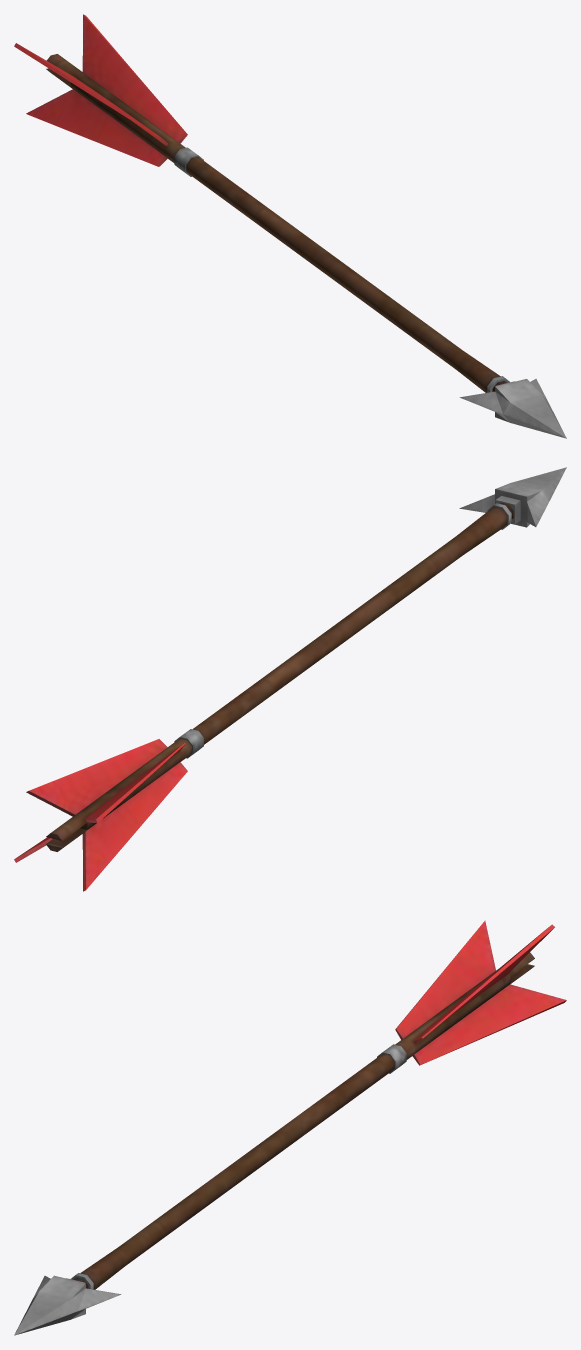
Rendered from arrow_particle_color.glb.
The picture shows the model from 3 angles, top to bottom: view 1: azimuth 30°, elevation 25°; view 2: azimuth 150°, elevation 25°; view 3: azimuth 330°, elevation 25°; orthographic projection.
Visible parts, largest first — view 1: Arrowunwrapped; view 2: Arrowunwrapped; view 3: Arrowunwrapped.
Boxes of the visible parts, x1,y1,x2,y2 form: Arrowunwrapped: (14, 14, 566, 438); Arrowunwrapped: (14, 467, 566, 891); Arrowunwrapped: (14, 920, 566, 1335).
Bounding box in the file's own units: 0.0697 × 0.0697 × 0.7388.
Materials: 1 (1 with a texture image).
